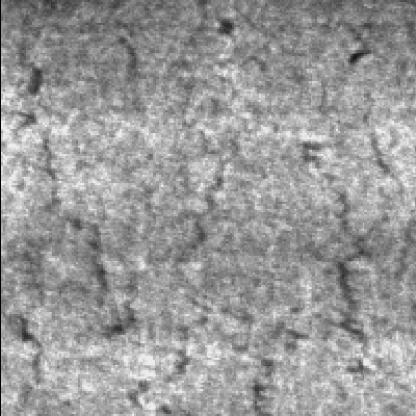crazing: (4, 33, 152, 406), (68, 130, 260, 374), (304, 72, 410, 380)
